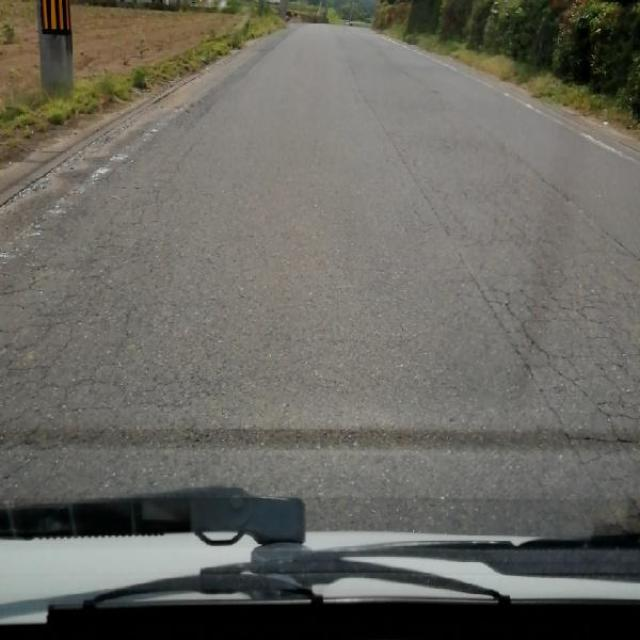Crack: (421, 101, 640, 498), (0, 174, 217, 434)
